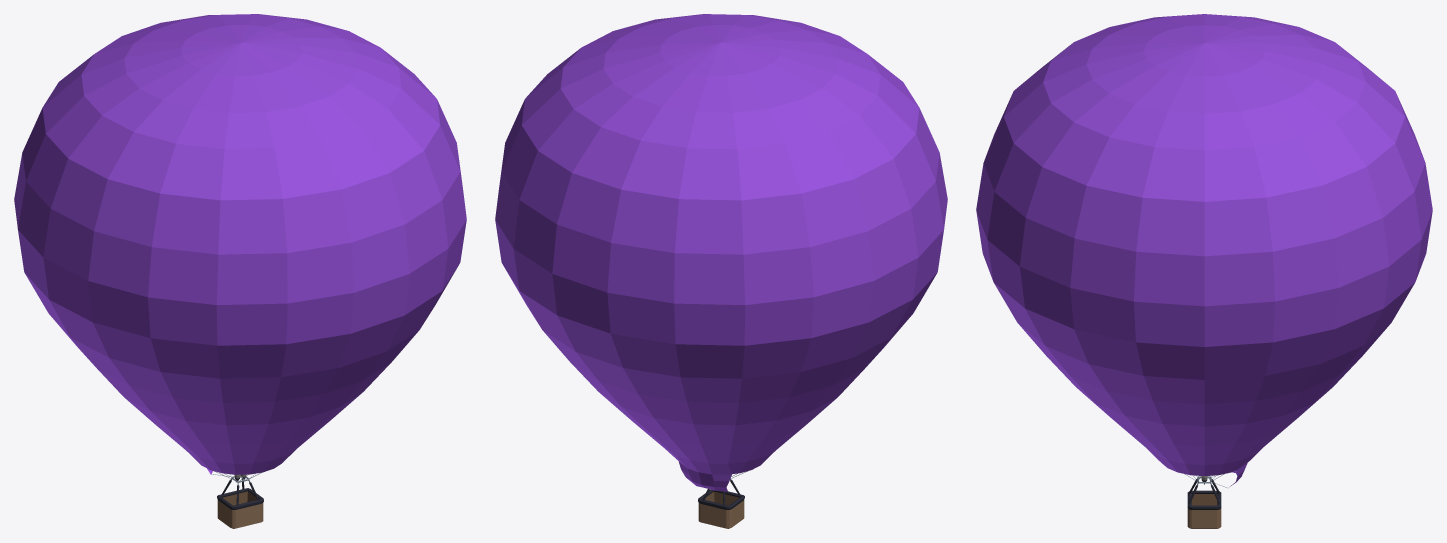
The model's file is HotAirBallon_Medium_05.fbx.
The picture shows the model from 3 angles, left to right: view 1: azimuth 30°, elevation 25°; view 2: azimuth 150°, elevation 25°; view 3: azimuth 270°, elevation 25°; orthographic projection.
Parts seen in each view (by area): view 1: HotAirBallon_Medium_05; view 2: HotAirBallon_Medium_05; view 3: HotAirBallon_Medium_05.
Part boxes in pixels (x1,y1,x2,y2): HotAirBallon_Medium_05: (14,14,466,528); HotAirBallon_Medium_05: (495,14,947,528); HotAirBallon_Medium_05: (976,14,1432,528).
Size of the model in its own units: 22.43 by 25.98 by 22.43.
